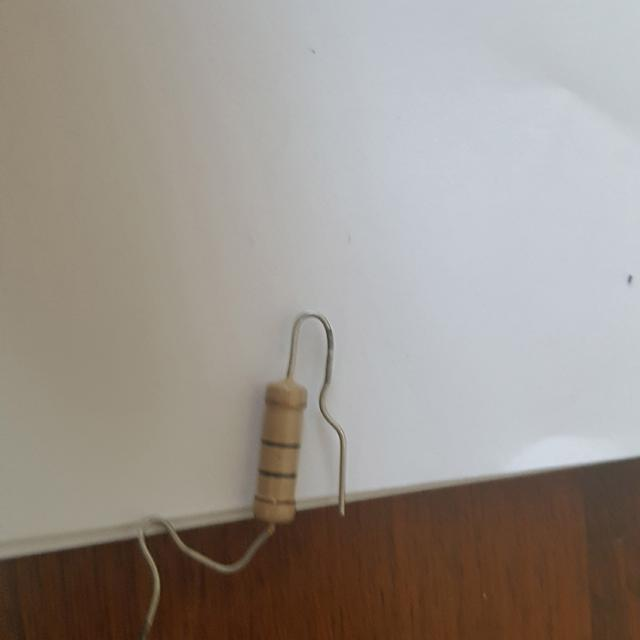black: (261, 440, 299, 449), (260, 471, 296, 478)
brown: (256, 497, 294, 505)
gold: (266, 399, 303, 409)
resistor: (237, 372, 318, 534)
